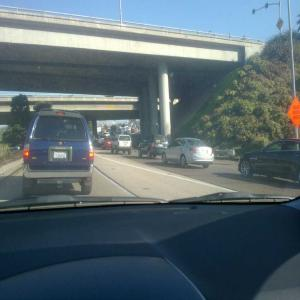Vehicle-registration-plate: (53, 152, 68, 162)
